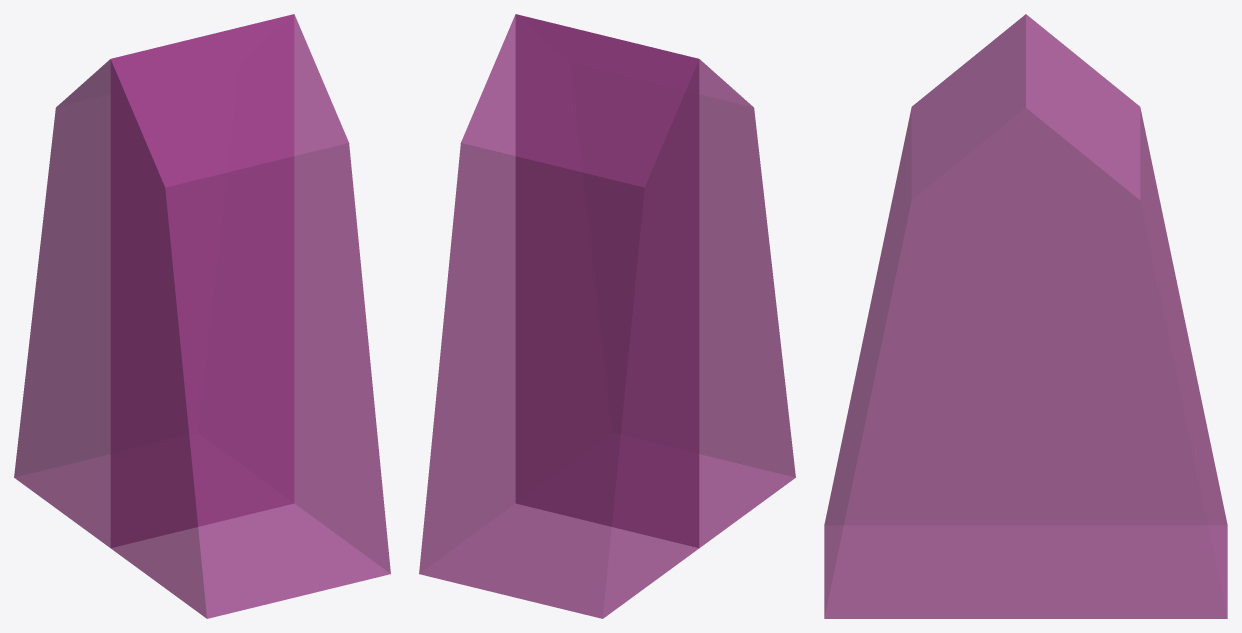
The model's file is SM_Bld_Roof_Trim_Cap_01_Collision_01.fbx.
3 renders of one model, left to right at view 1: azimuth 30°, elevation 25°; view 2: azimuth 150°, elevation 25°; view 3: azimuth 270°, elevation 25°, orthographic. The views are drawn at different scales.
Parts seen in each view (by area): view 1: SM_Bld_Roof_Trim_Cap_01_Collision_01; view 2: SM_Bld_Roof_Trim_Cap_01_Collision_01; view 3: SM_Bld_Roof_Trim_Cap_01_Collision_01.
Part boxes in pixels (left/top/right/bottom): SM_Bld_Roof_Trim_Cap_01_Collision_01: left=14, top=14, right=390, bottom=618; SM_Bld_Roof_Trim_Cap_01_Collision_01: left=419, top=14, right=795, bottom=618; SM_Bld_Roof_Trim_Cap_01_Collision_01: left=824, top=14, right=1227, bottom=618.
Bounding box in the file's own units: 61.66 × 157 × 112.
